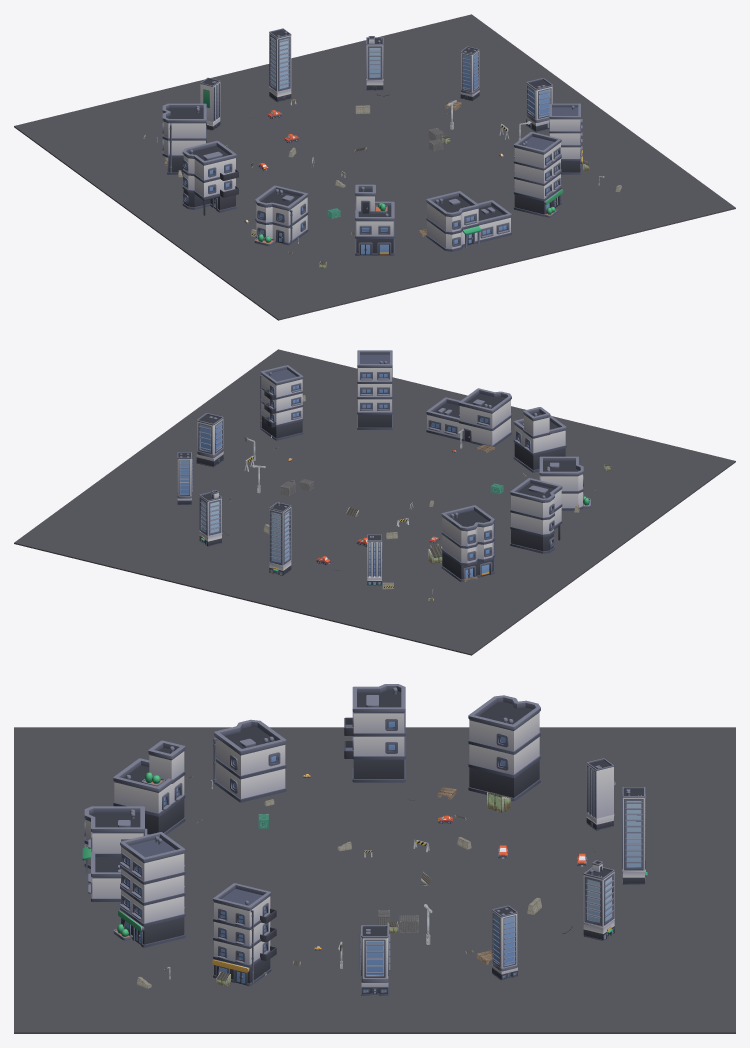
Rendered from world.glb.
3 renders of one model, top to bottom at view 1: azimuth 30°, elevation 25°; view 2: azimuth 150°, elevation 25°; view 3: azimuth 270°, elevation 25°, orthographic. The views are drawn at different scales.
Parts seen in each view (by area): view 1: Terrain, Tower_009_building-e, Tower_010_building-f, Tower_006_building-b, Tower_007_building-c, Tower_008_building-d, Tower_005_building-a, Tower_011_building-g, Tower_003_building-skyscraper-, Tower_000_building-skyscraper-, Tower_001_building-skyscraper-, Tower_002_building-skyscraper- (+1 smaller); view 2: Terrain, Tower_009_building-e, Tower_005_building-a, Tower_006_building-b, Tower_011_building-g, Tower_010_building-f, Tower_008_building-d, Tower_007_building-c, Tower_003_building-skyscraper-, Tower_000_building-skyscraper-, Tower_002_building-skyscraper-, Tower_001_building-skyscraper- (+1 smaller); view 3: Terrain, Tower_010_building-f, Tower_005_building-a, Tower_006_building-b, Tower_011_building-g, Tower_007_building-c, Tower_008_building-d, Tower_009_building-e, Tower_003_building-skyscraper-, Tower_002_building-skyscraper-, Tower_000_building-skyscraper-, Tower_004_building-skyscraper- (+1 smaller).
Boxes of the visible parts, bbox=[...] form: Terrain: bbox=[14, 14, 735, 320]; Tower_009_building-e: bbox=[426, 191, 511, 251]; Tower_010_building-f: bbox=[513, 132, 563, 217]; Tower_006_building-b: bbox=[182, 141, 238, 215]; Tower_007_building-c: bbox=[254, 185, 308, 246]; Tower_008_building-d: bbox=[355, 184, 394, 255]; Tower_005_building-a: bbox=[162, 103, 206, 174]; Tower_011_building-g: bbox=[547, 103, 582, 174]; Tower_003_building-skyscraper-: bbox=[269, 28, 291, 102]; Tower_000_building-skyscraper-: bbox=[526, 78, 552, 132]; Tower_001_building-skyscraper-: bbox=[460, 46, 479, 101]; Tower_002_building-skyscraper-: bbox=[366, 36, 383, 90]; Terrain: bbox=[14, 349, 735, 655]; Tower_009_building-e: bbox=[426, 388, 511, 446]; Tower_005_building-a: bbox=[441, 505, 495, 581]; Tower_006_building-b: bbox=[510, 478, 562, 553]; Tower_011_building-g: bbox=[260, 365, 303, 440]; Tower_010_building-f: bbox=[357, 350, 392, 429]; Tower_008_building-d: bbox=[513, 407, 566, 472]; Tower_007_building-c: bbox=[539, 456, 590, 510]; Tower_003_building-skyscraper-: bbox=[269, 502, 291, 575]; Tower_000_building-skyscraper-: bbox=[196, 413, 223, 467]; Tower_002_building-skyscraper-: bbox=[199, 490, 222, 546]; Tower_001_building-skyscraper-: bbox=[177, 452, 192, 504]; Terrain: bbox=[14, 727, 735, 1033]; Tower_010_building-f: bbox=[113, 832, 185, 947]; Tower_005_building-a: bbox=[468, 695, 540, 801]; Tower_006_building-b: bbox=[344, 684, 405, 782]; Tower_011_building-g: bbox=[212, 883, 276, 986]; Tower_007_building-c: bbox=[213, 719, 286, 802]; Tower_008_building-d: bbox=[113, 740, 185, 834]; Tower_009_building-e: bbox=[82, 806, 147, 901]; Tower_003_building-skyscraper-: bbox=[622, 787, 647, 884]; Tower_002_building-skyscraper-: bbox=[583, 860, 614, 940]; Tower_000_building-skyscraper-: bbox=[359, 925, 390, 995]; Tower_004_building-skyscraper-: bbox=[586, 758, 613, 830].
Bounding box in the file's own units: 180 × 25.53 × 180.
45 materials, 42 textured.
